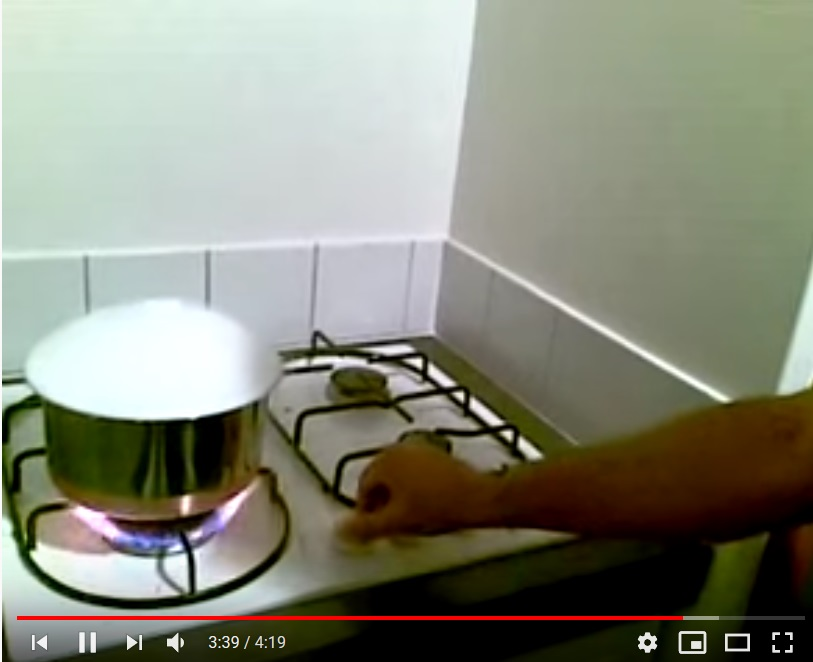Boiled: (32, 288, 265, 523)
